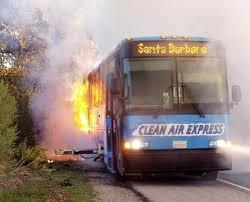fire: (69, 75, 106, 133)
